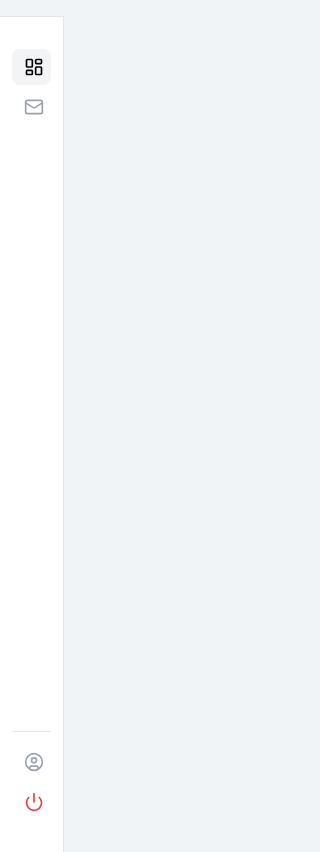
Sidebar component › renders caption and clamped description only when expanded
This screenshot has width=320, height=852.
Expected: the text "Dashboard" is not shown
Hover over the element named "Main navigation" at {"x": 32, "y": 434}, box [0, 16, 64, 851]
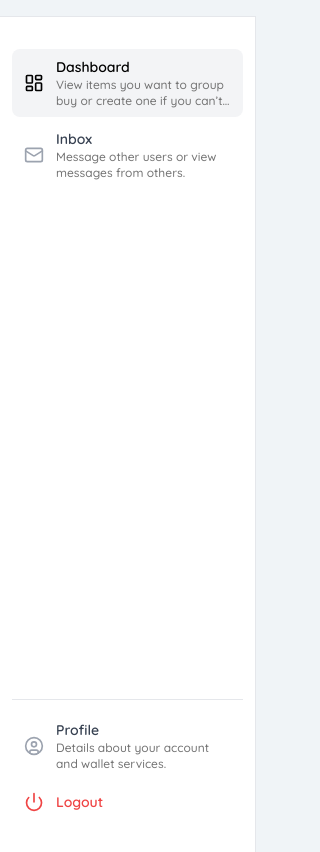
Result: the text "Dashboard" is shown at [56, 58, 130, 76]
Move the pointer off the element named "Main navigation"
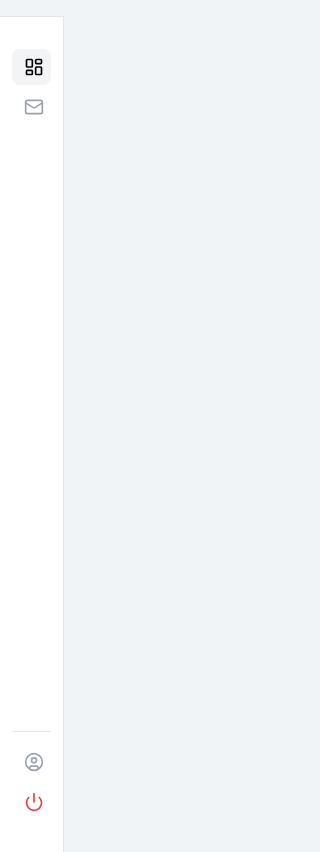
Result: the link "Dashboard" is gone
